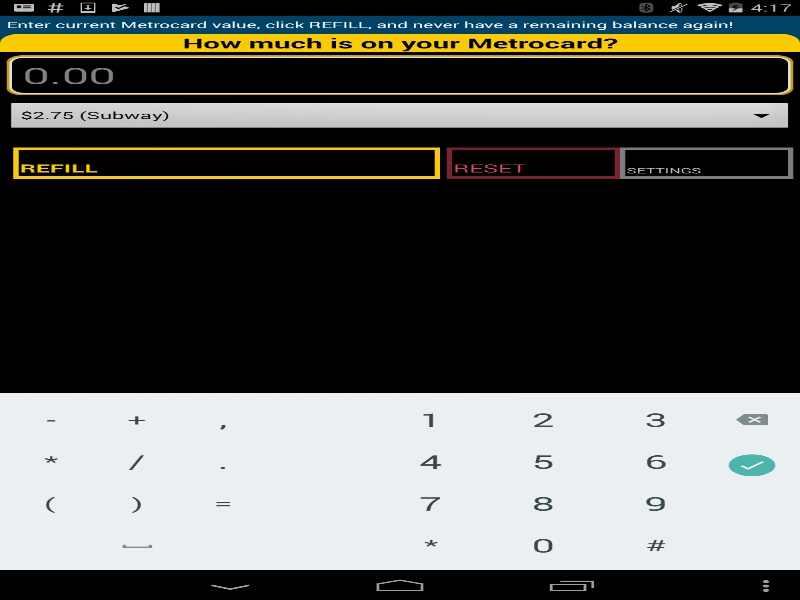Button: (13, 147, 440, 178), (446, 147, 620, 178), (620, 147, 793, 178)
Input: (9, 56, 790, 94)
